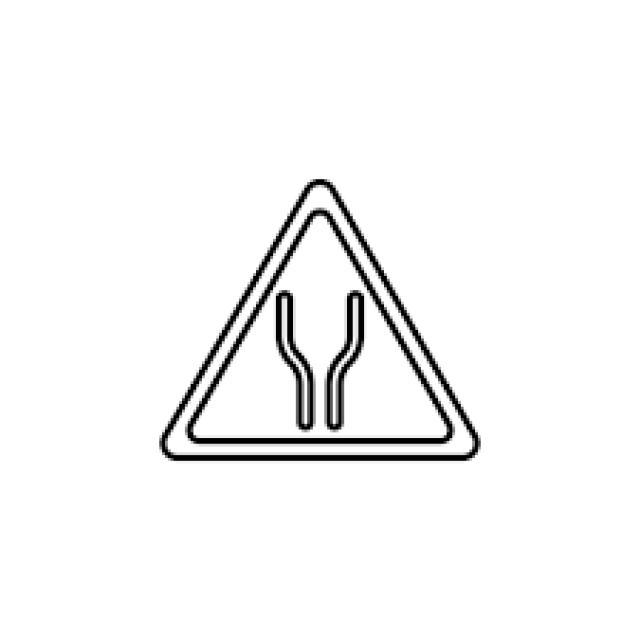road widens ahead: (150, 171, 487, 473)
